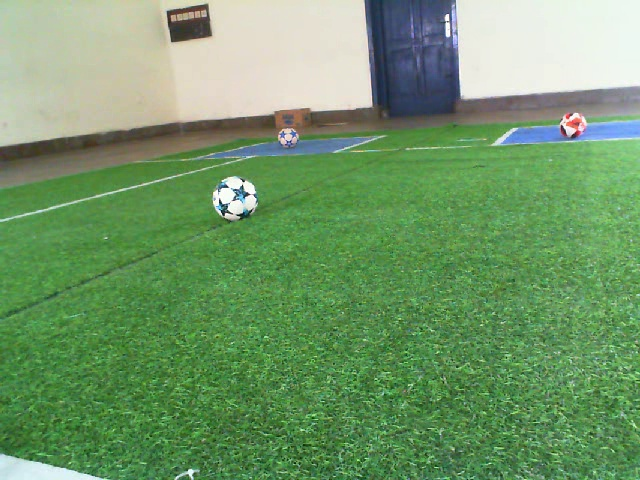ball: (210, 174, 261, 224), (557, 110, 589, 141), (276, 125, 301, 151)
